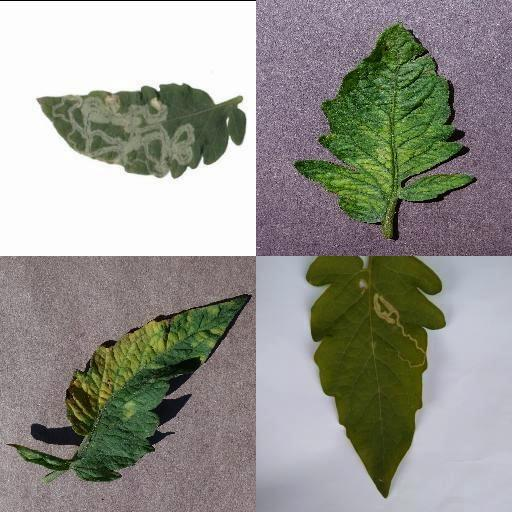Leaf Miner: (305, 256, 448, 498), (37, 82, 247, 180)
Leaf Mold: (66, 295, 250, 481)
Mosaic Virus: (294, 25, 476, 226)
